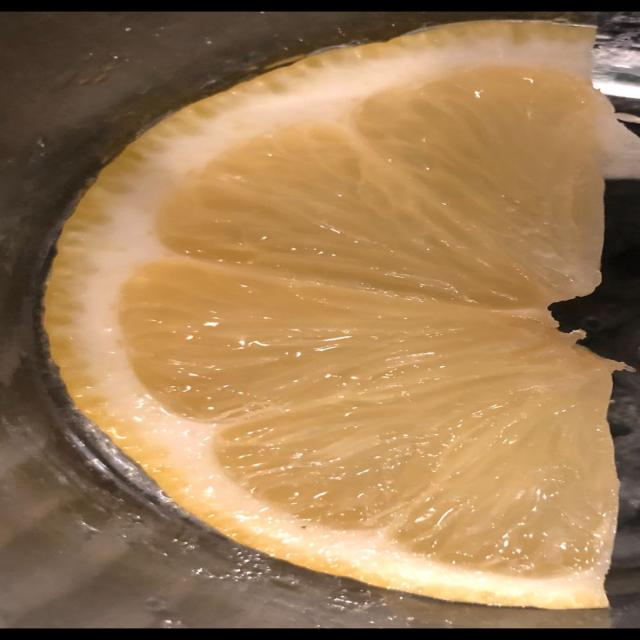lemon: (46, 22, 616, 608)
